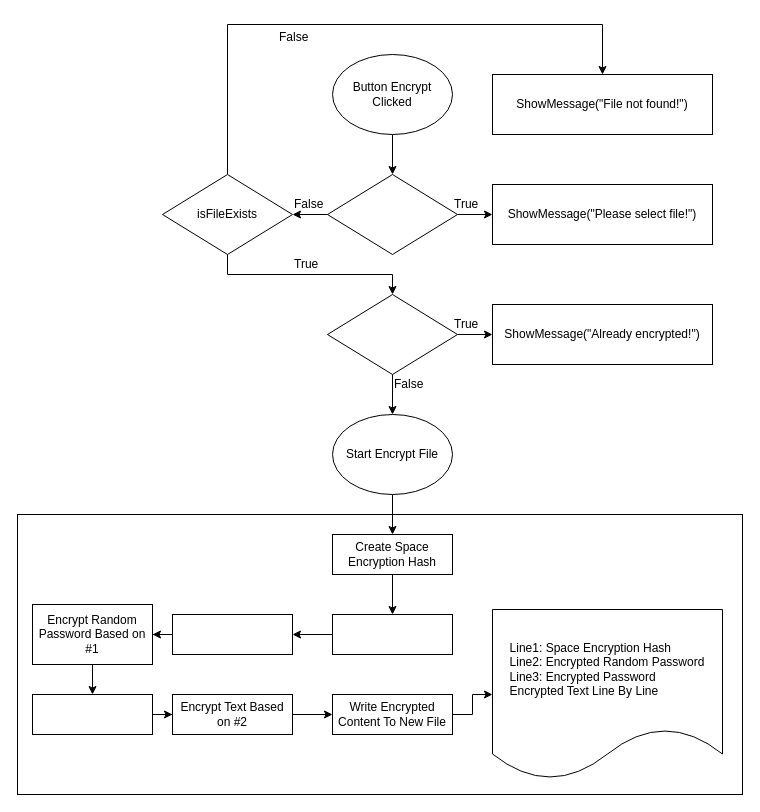
Some shapes in this 760 by 812 pixel diagram are drawn without their labels. Each missing label, with the centre of its shape:
"Encrypt Password Based on #2" goes at (x=92, y=714).
"Get Password Hash #1" goes at (x=392, y=634).
"Get Random Password Hash #2" goes at (x=232, y=634).
"isEncryptedFile" goes at (x=392, y=334).
"selectedFile == null" goes at (x=392, y=214).
